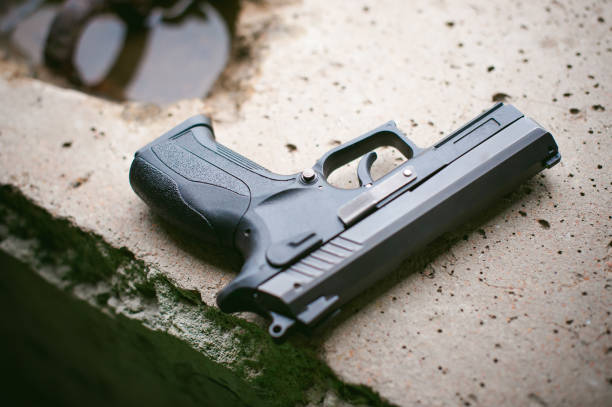pistol: (125, 98, 574, 362)
